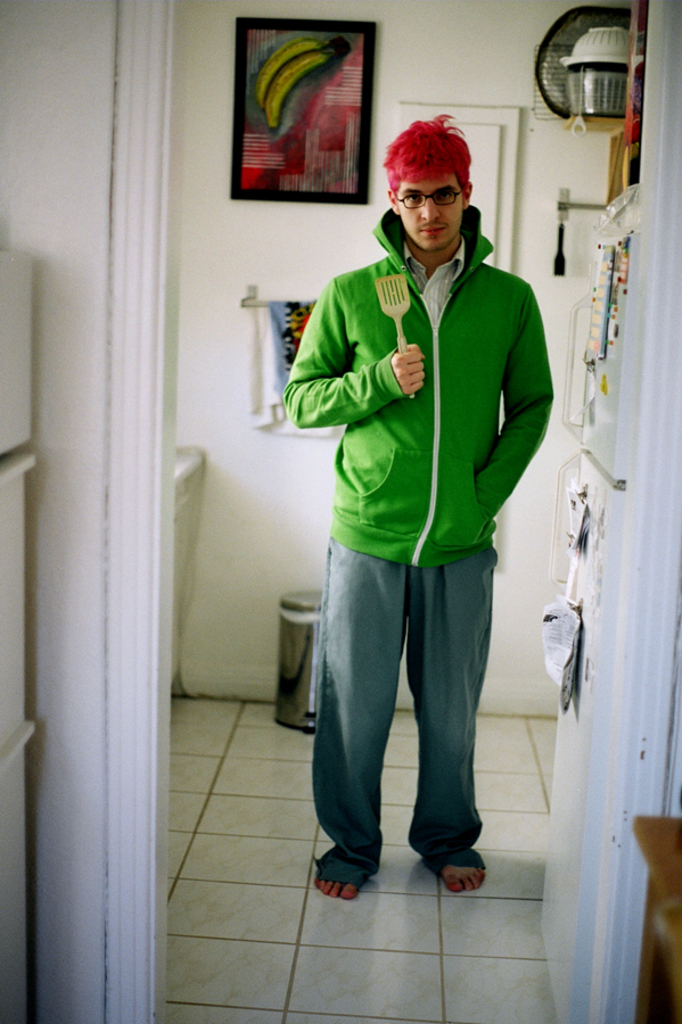refrigerator door: (571, 491, 613, 1024), (592, 238, 631, 488)
